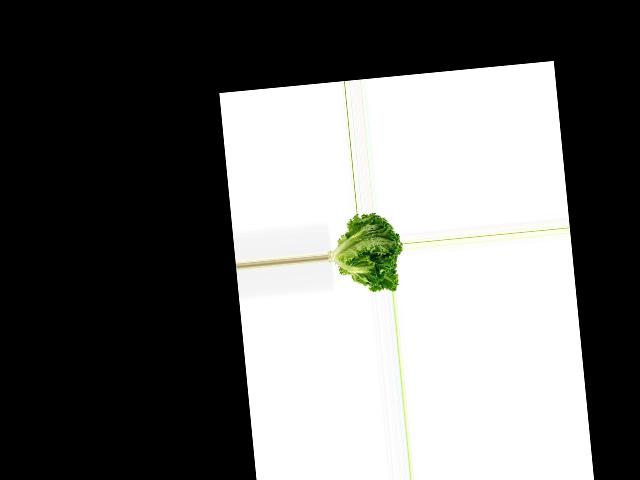lettuce: (323, 210, 405, 296)
